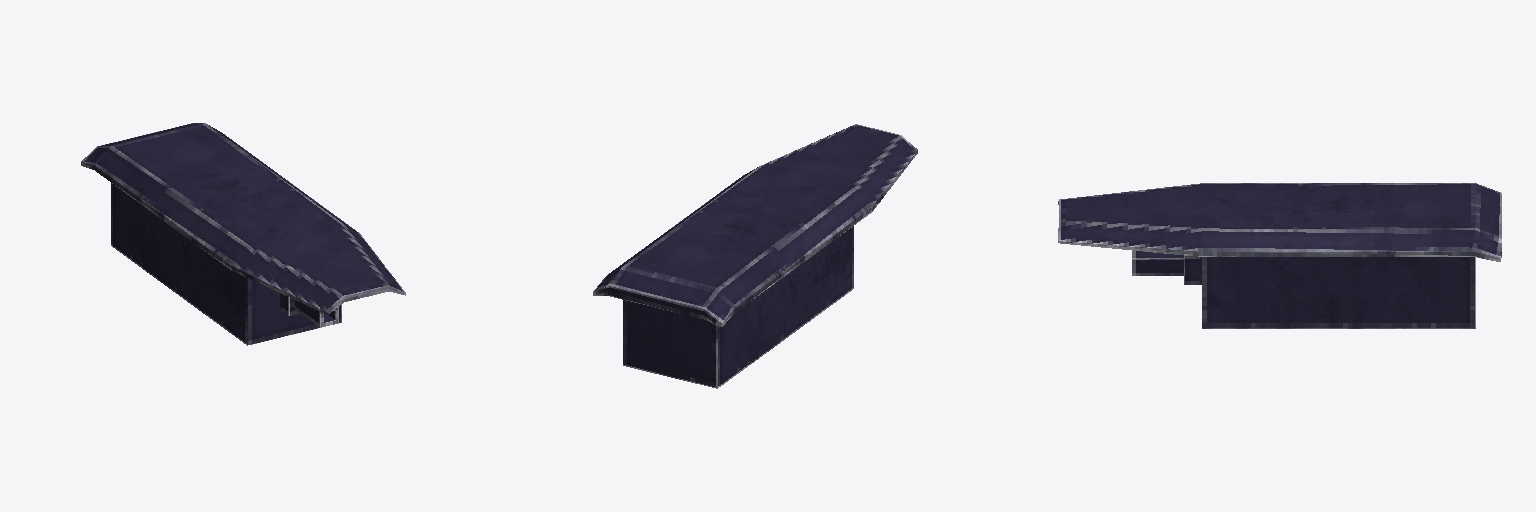
3 renders of one model, left to right at view 1: azimuth 30°, elevation 25°; view 2: azimuth 150°, elevation 25°; view 3: azimuth 270°, elevation 25°, orthographic.
Parts seen in each view (by area): view 1: Box001; view 2: Box001; view 3: Box001.
Boxes of the visible parts, x1=… form: Box001: x1=81, y1=123, x2=405, y2=345; Box001: x1=593, y1=124, x2=917, y2=388; Box001: x1=1058, y1=183, x2=1501, y2=328.
Size of the model in its own units: 0.3608 by 0.2653 by 1.08.
1 materials, 1 textured.